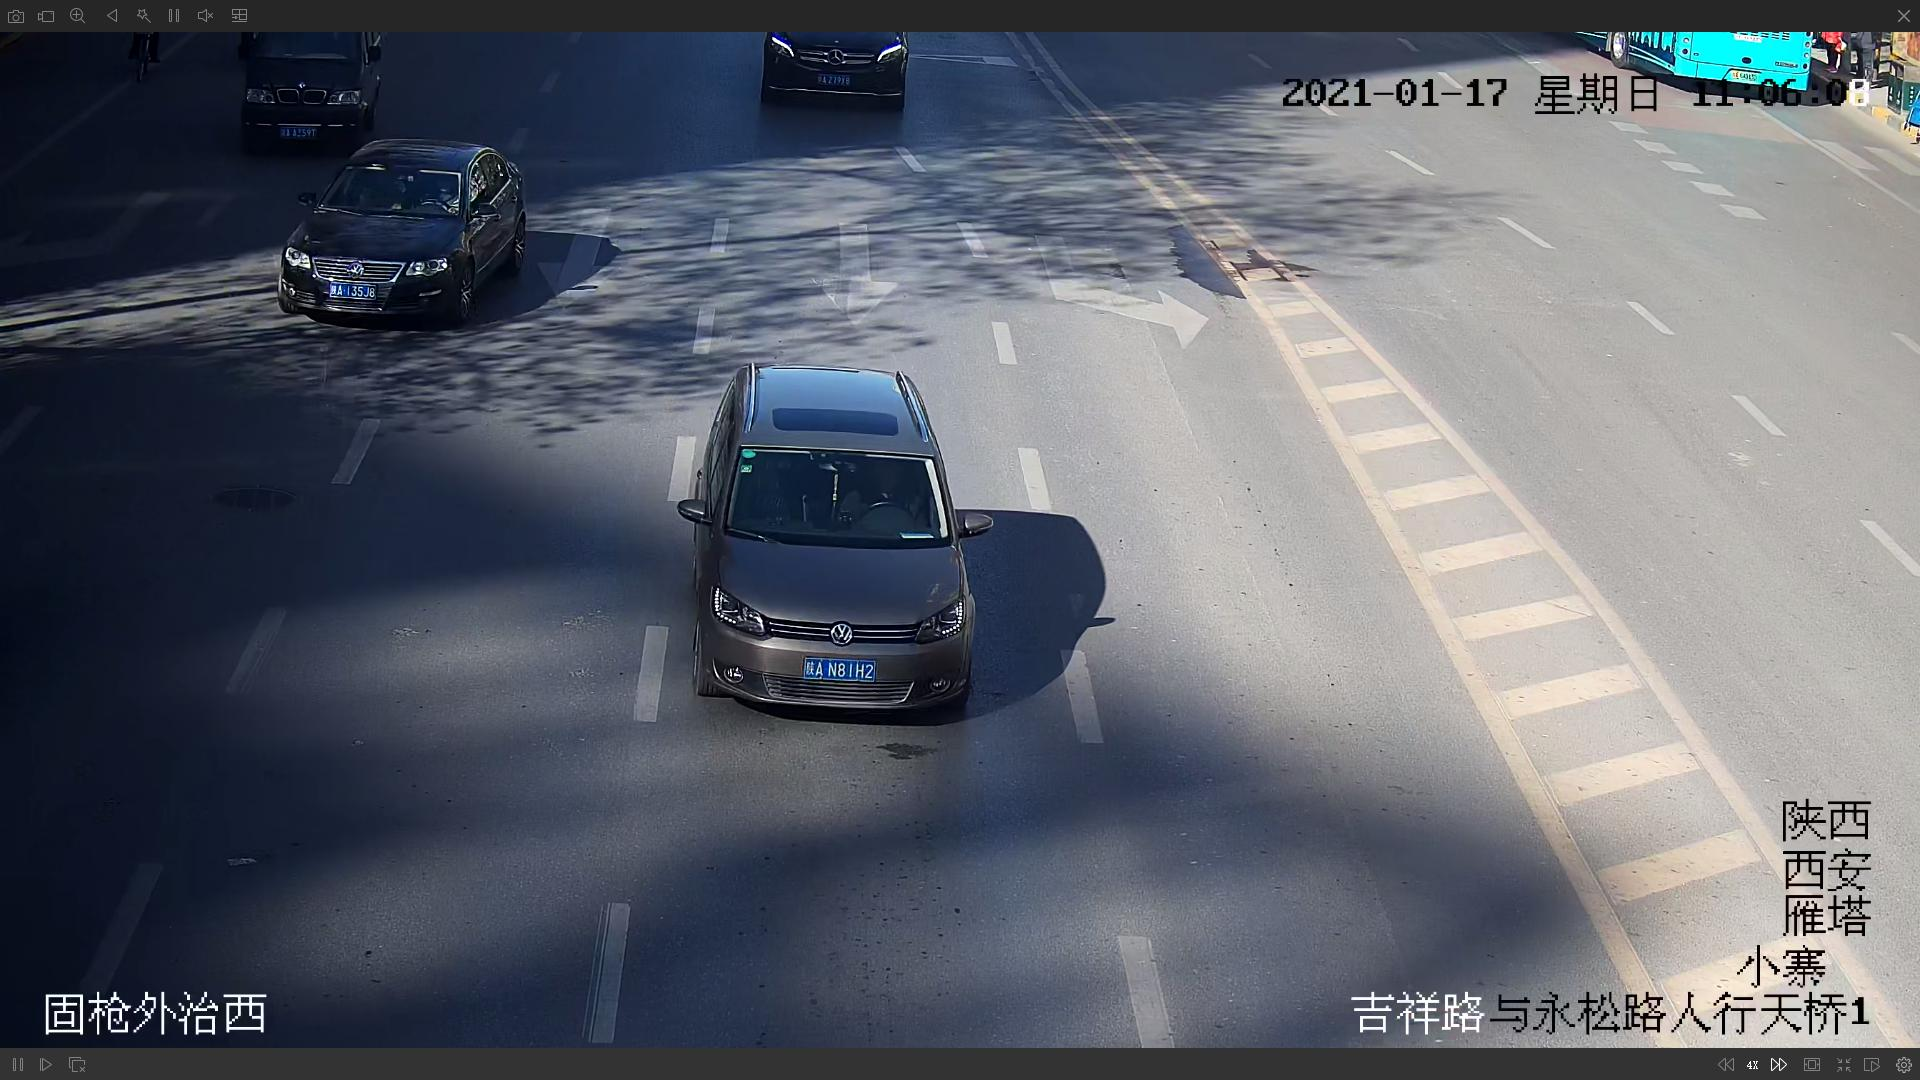black: (274, 140, 527, 328)
dark-gray: (674, 360, 996, 716)
